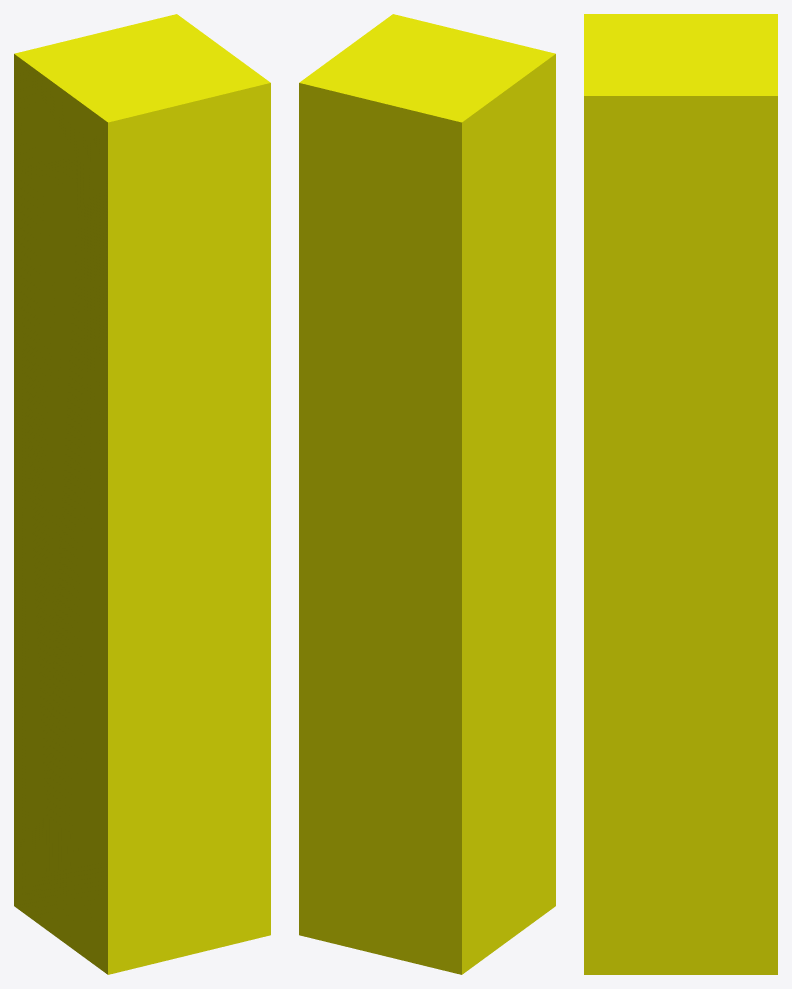
Rendered from voxel-palace-fence-post.glb.
The picture shows the model from 3 angles, left to right: view 1: azimuth 30°, elevation 25°; view 2: azimuth 150°, elevation 25°; view 3: azimuth 270°, elevation 25°; orthographic projection. The views are drawn at different scales.
Visible parts, largest first — view 1: ObjObject.010; view 2: ObjObject.010; view 3: ObjObject.010.
Part boxes in pixels (x1,y1,x2,y2): ObjObject.010: (14,14,270,974); ObjObject.010: (299,14,555,974); ObjObject.010: (584,14,777,974).
Bounding box in the file's own units: 0.2999 × 1.5 × 0.2999.
